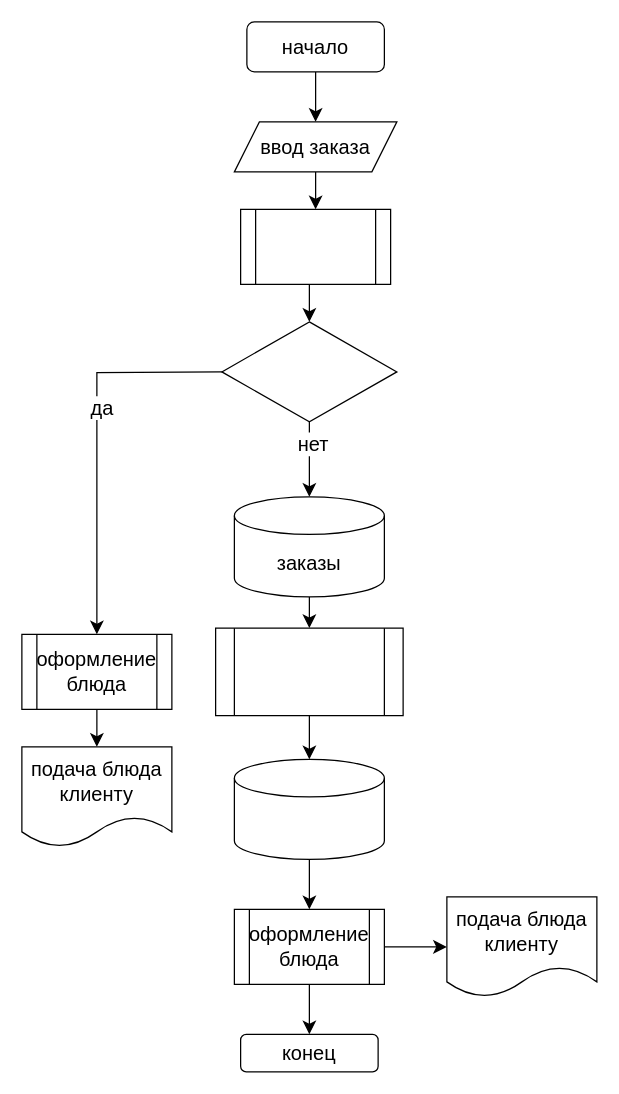
Image size: 619x1094. Some labels were removed from this diagram. The centre of each missing label's shape, as x and y in pixels:
есть блюдо: point 309,371
приготовление блюда: point 308,671
проверка наличия блюда: point 315,246
создание чека: point 308,808
